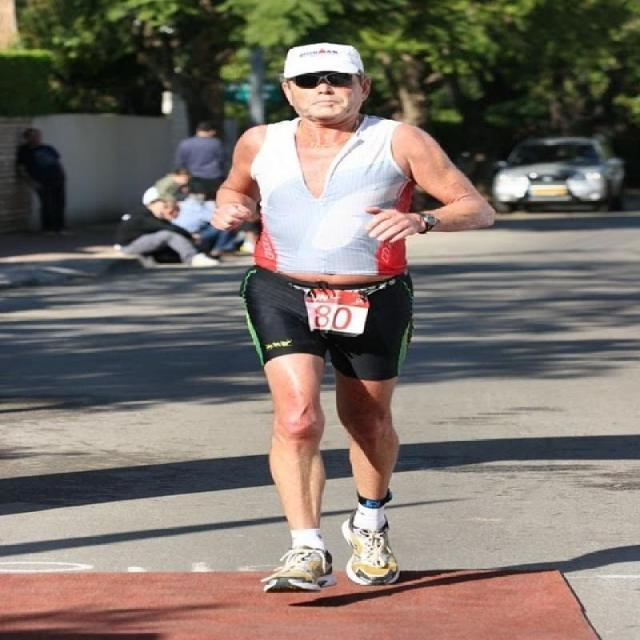dorsal: (297, 284, 378, 338)
